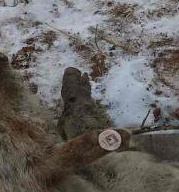text: (93, 119, 132, 161)
